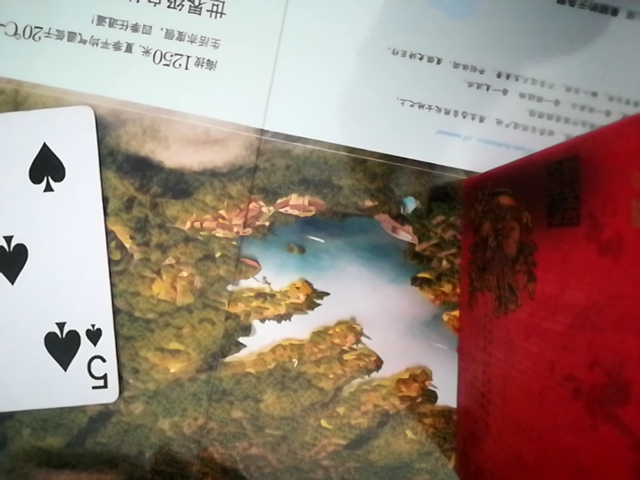ht 5: (0, 107, 123, 425)
